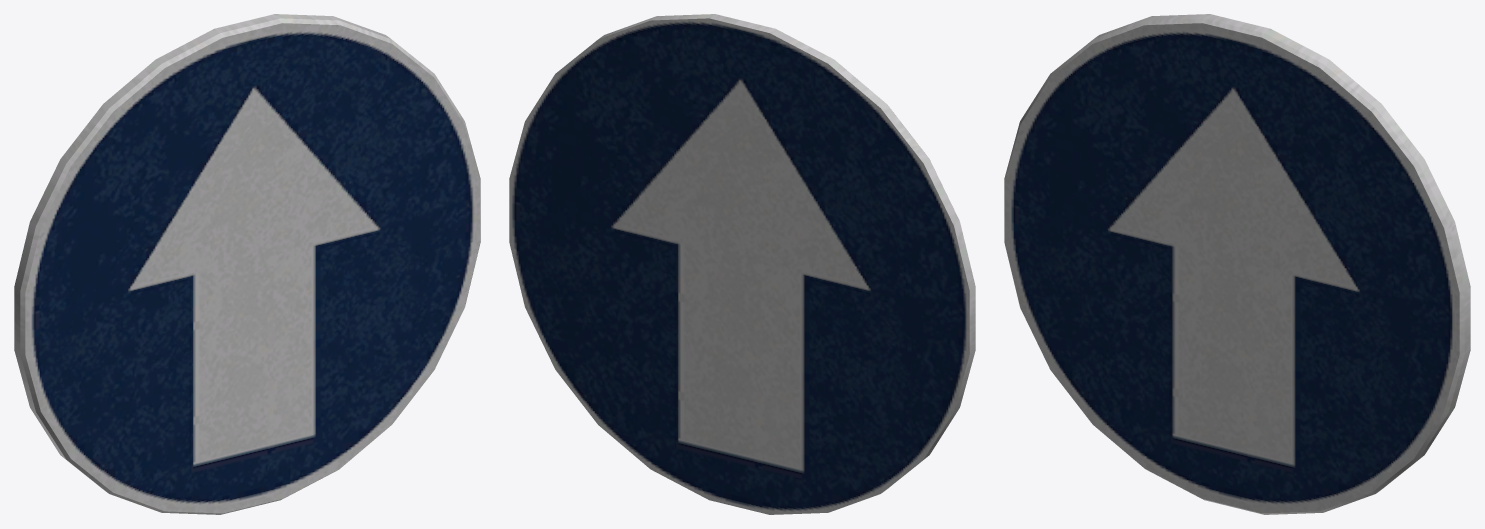
The model's file is sign_direction_arrow_blue.dae.
The picture shows the model from 3 angles, left to right: view 1: azimuth 30°, elevation 25°; view 2: azimuth 150°, elevation 25°; view 3: azimuth 330°, elevation 25°; orthographic projection.
Visible parts, largest first — view 1: blue; view 2: blue; view 3: blue.
Part boxes in pixels (<box>): blue: <box>14,14,480,514</box>; blue: <box>509,14,975,514</box>; blue: <box>1004,14,1470,514</box>.
Size of the model in its own units: 37.55 by 37.55 by 1.16.
